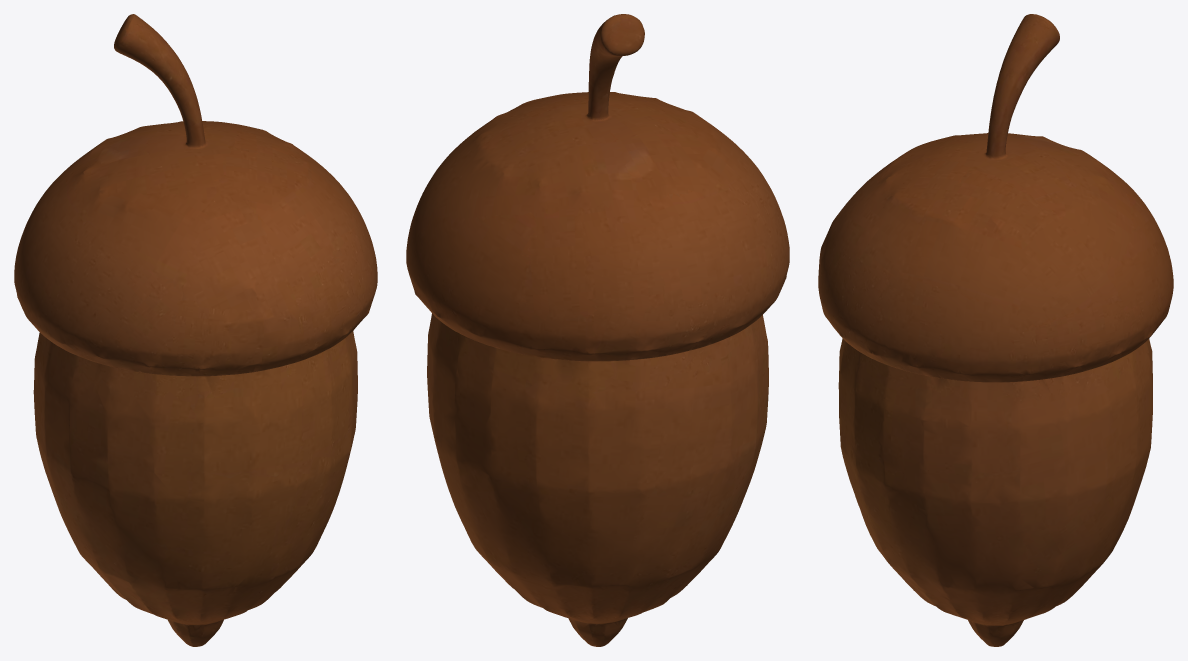
The model's file is pipsGoldenAcorn.16eae286.glb.
3 views of the same model, side by side, from view 1: azimuth 30°, elevation 25°; view 2: azimuth 150°, elevation 25°; view 3: azimuth 270°, elevation 25° (orthographic). The views are drawn at different scales.
Size of the model in its own units: 1 by 1.9 by 1.
1 material, 1 textured.
